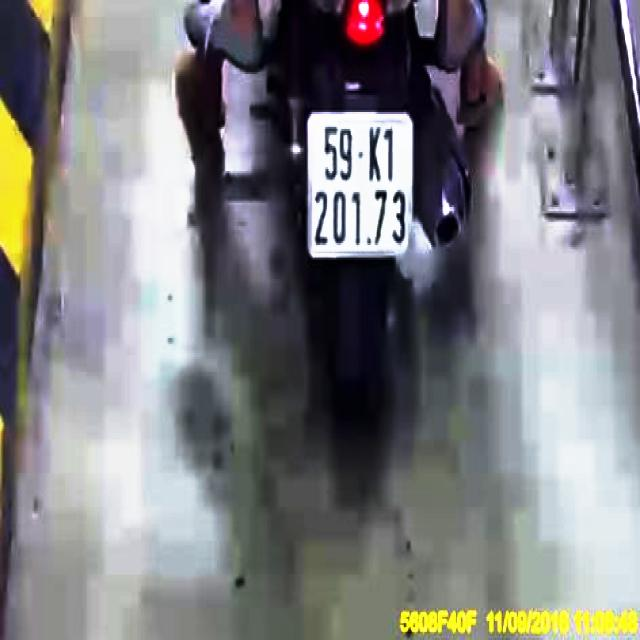license_plate: (308, 116, 412, 255)
